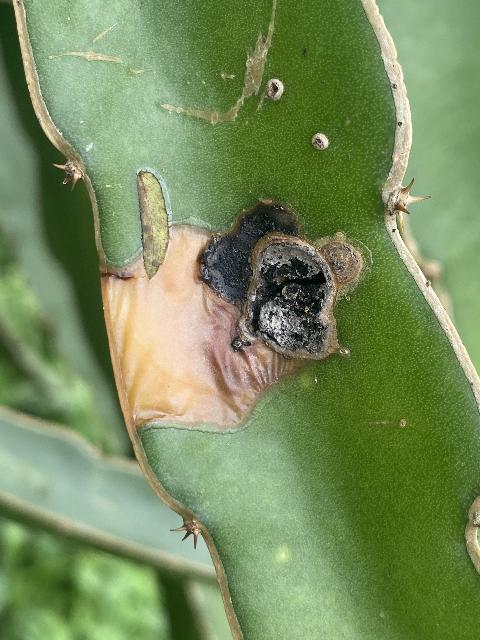stemcanker: (89, 171, 376, 446)
